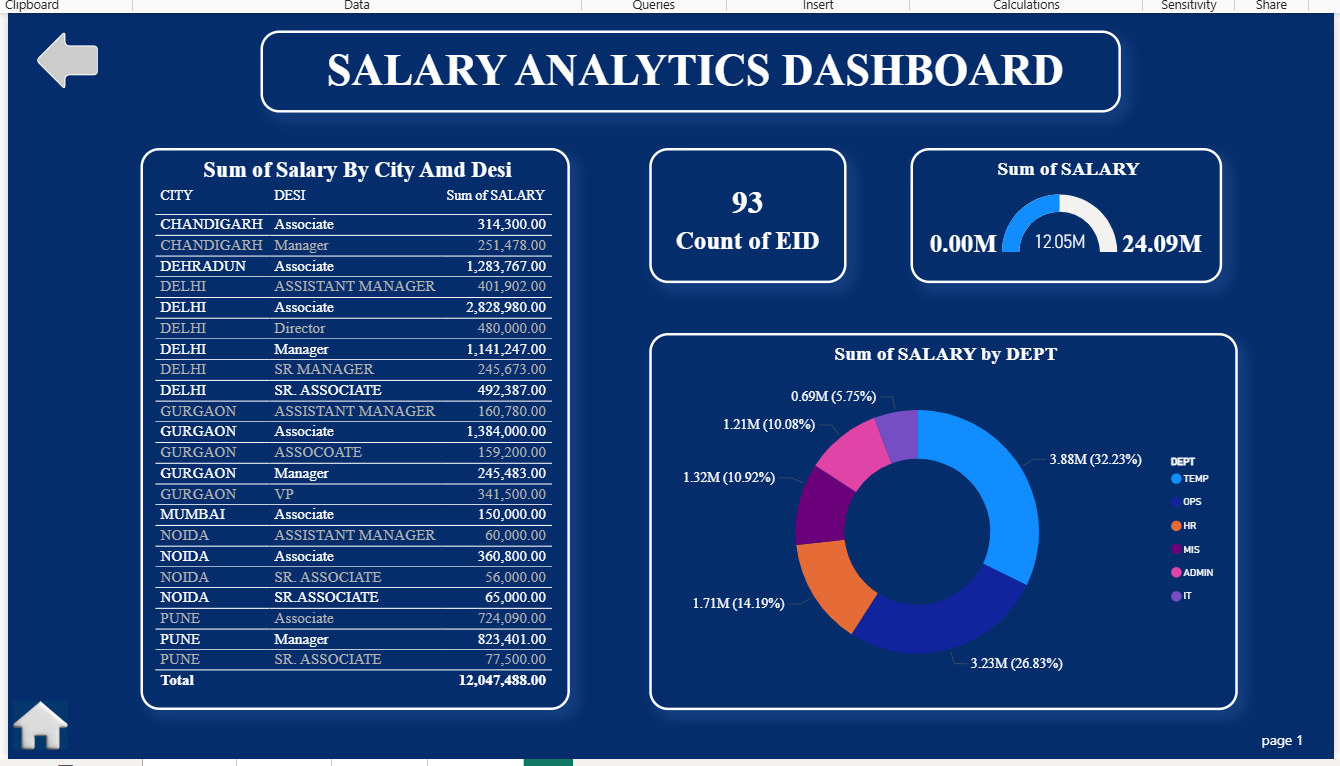

What the dashboard file says about the page in this screenshot:
{"tool":"powerbi","page":{"name":"Page 3","canvas":[1280,720],"ordinal":3},"visuals":[{"type":"shape","box":[26.1,16.5,60.4,57.6],"z":0},{"type":"image","box":[0,669.6,50.8,50.8],"z":1000},{"type":"textbox","box":[244.3,16.5,830.2,79.6],"z":2000},{"type":"gauge","fields":{"Y":["Sum(Sheet1 (2).SALARY)"]},"box":[871.4,130.4,300.5,130.4],"z":3000},{"type":"card","fields":{"Values":["CountNonNull(Sheet1 (2).EID)"]},"box":[618.9,130.4,190.7,130.4],"z":4000},{"type":"donutChart","fields":{"Category":["Sheet1 (2).DEPT"],"Y":["Sum(Sheet1 (2).SALARY)"]},"box":[618.9,308.7,568.1,363.6],"z":5000},{"type":"tableEx","title":"Sum of Salary By City Amd Desi","fields":{"Values":["Sheet1.CITY","Sheet1 (2).DESI","Sum(Sheet1 (2).SALARY)"]},"box":[127.6,130.4,414.4,542],"z":6000},{"type":"actionButton","box":[1180.1,680.6,100.2,39.8],"z":7000}]}

Visuals, with their boxes in screenshot pixels (x1, y1, x2, y2):
shape: locate(34, 28, 96, 87)
image: locate(7, 702, 59, 754)
textbox: locate(259, 28, 1116, 110)
gauge - Sum(Sheet1 (2).SALARY): locate(907, 145, 1217, 280)
card - CountNonNull(Sheet1 (2).EID): locate(646, 145, 843, 280)
donutChart - Sheet1 (2).DEPT x Sum(Sheet1 (2).SALARY): locate(646, 329, 1232, 705)
"Sum of Salary By City Amd Desi" tableEx: locate(139, 145, 567, 705)
actionButton: locate(1225, 713, 1329, 754)
